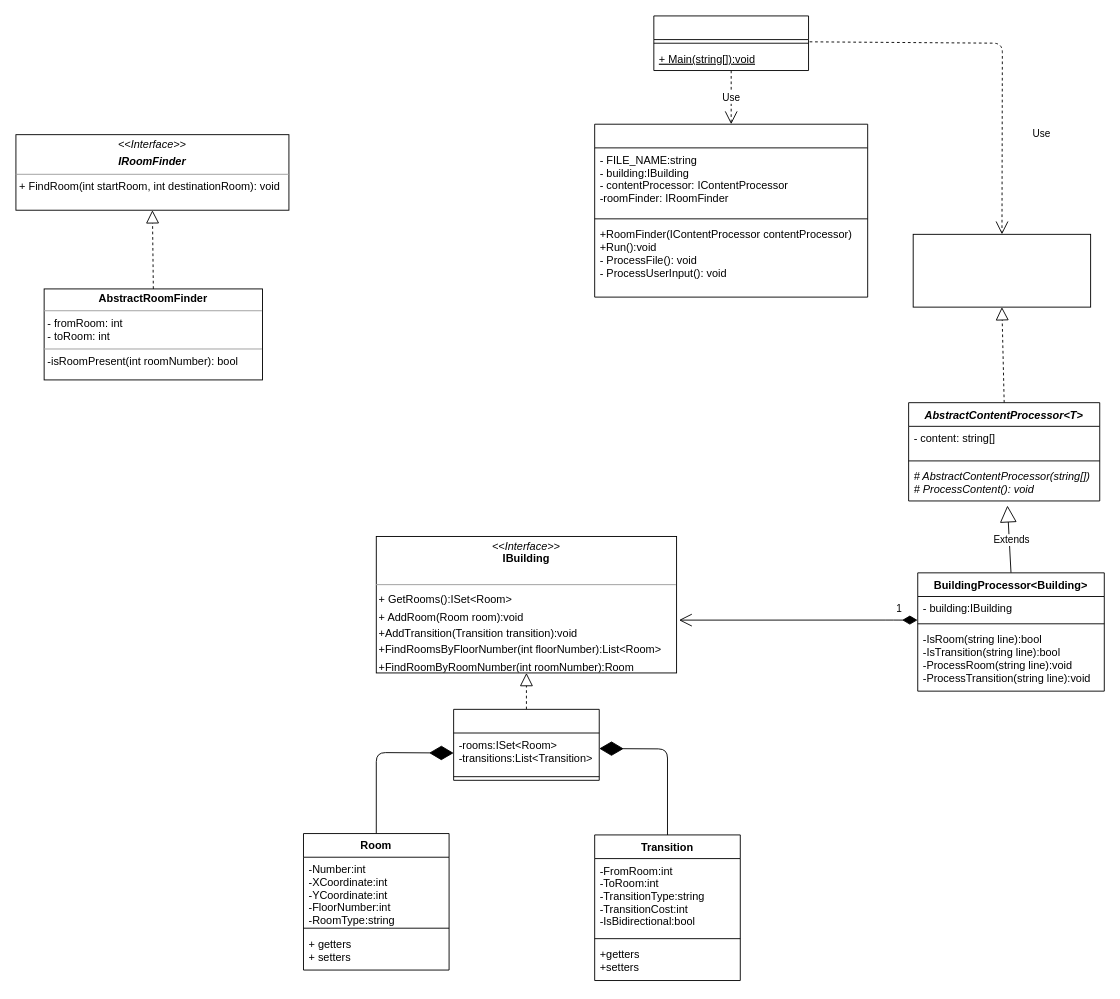
Image size: 1120x999. Some labels were removed from this diagram. The shapes that lost their labels are listed below. From the top down, each one's box as (x1, y1, x2, y2) in pixels, then its label:
(653, 15, 809, 71): Program
(594, 123, 868, 297): App
(912, 233, 1091, 307): <<Interface>> IContentProcessor<T> + GetProcessed():T
(453, 708, 599, 780): Building
